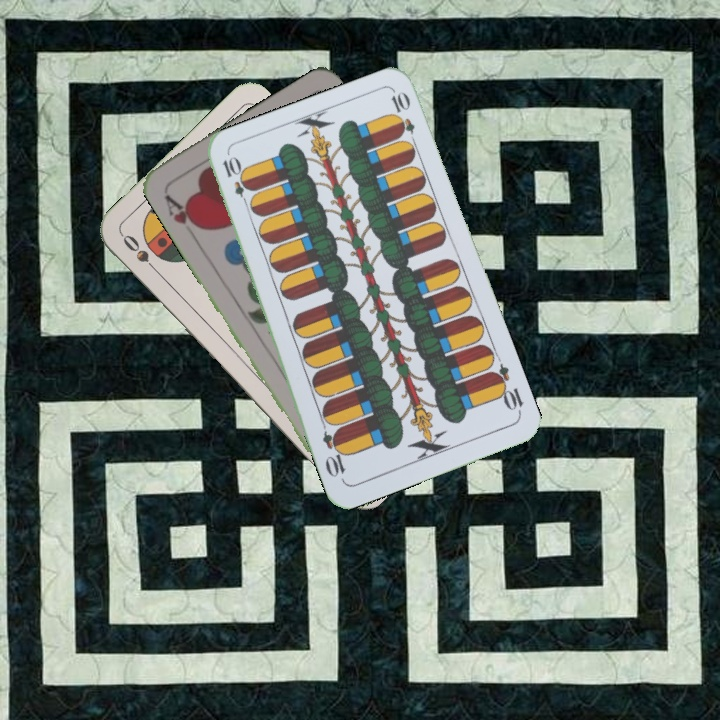E10: (486, 360, 526, 417), (218, 153, 253, 210)
HA: (160, 190, 205, 241)
SO: (118, 230, 163, 278)
